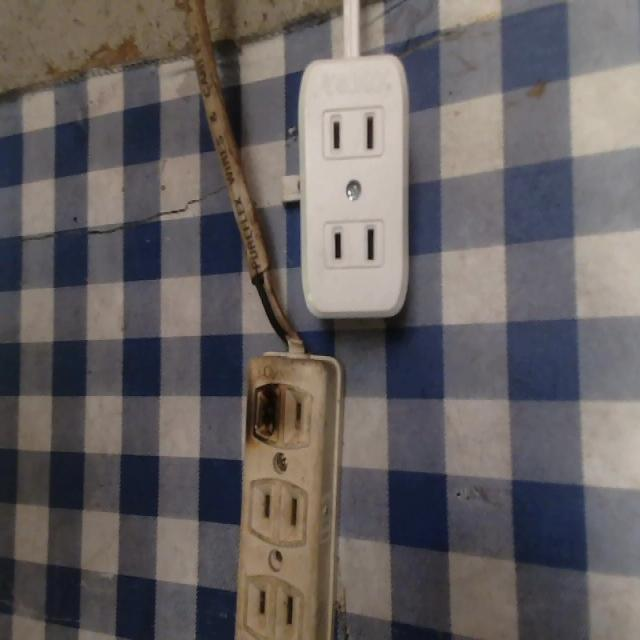-: (248, 377, 285, 443)
